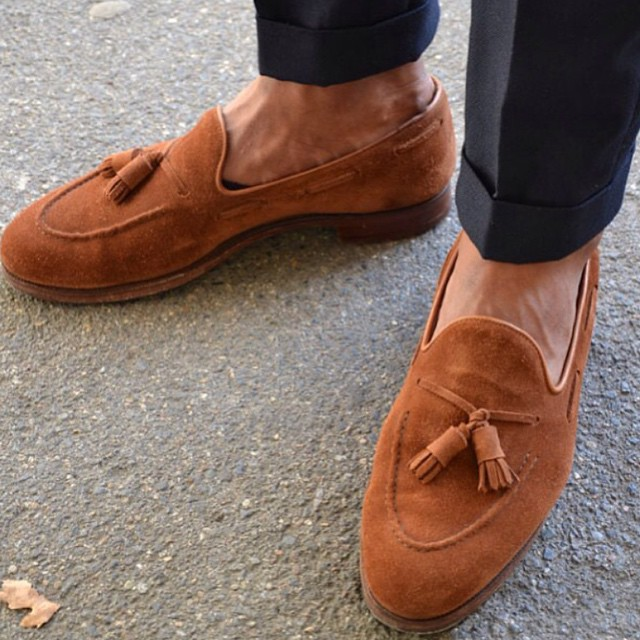sneaker: (316, 193, 634, 639), (1, 40, 480, 331)
